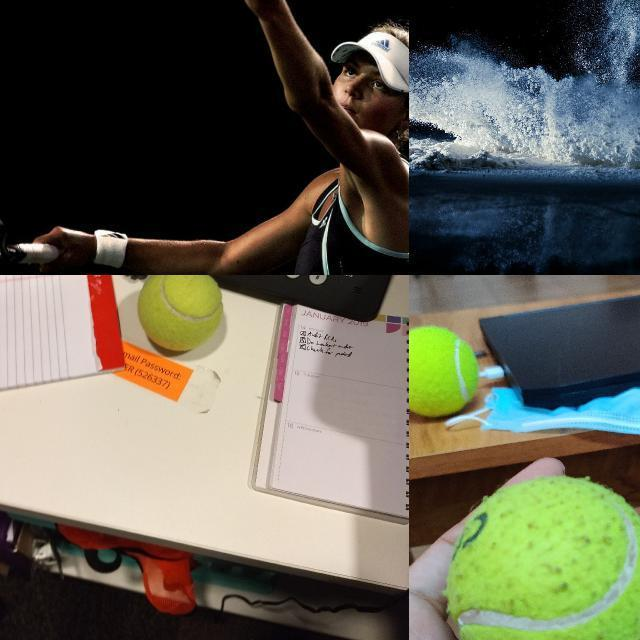tennis-ball: (445, 475, 639, 639), (135, 275, 224, 353), (409, 326, 478, 419)
